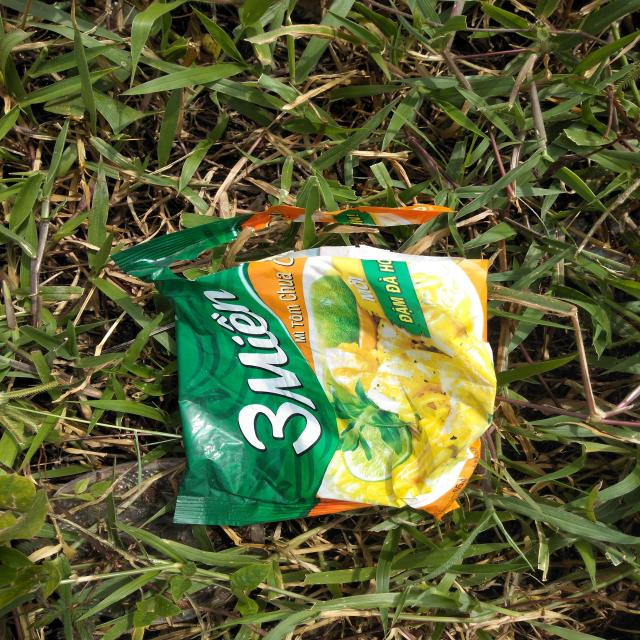litter: (108, 203, 496, 527)
